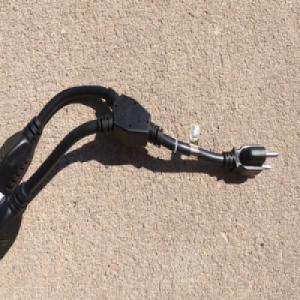Wire: (0, 83, 279, 264)
